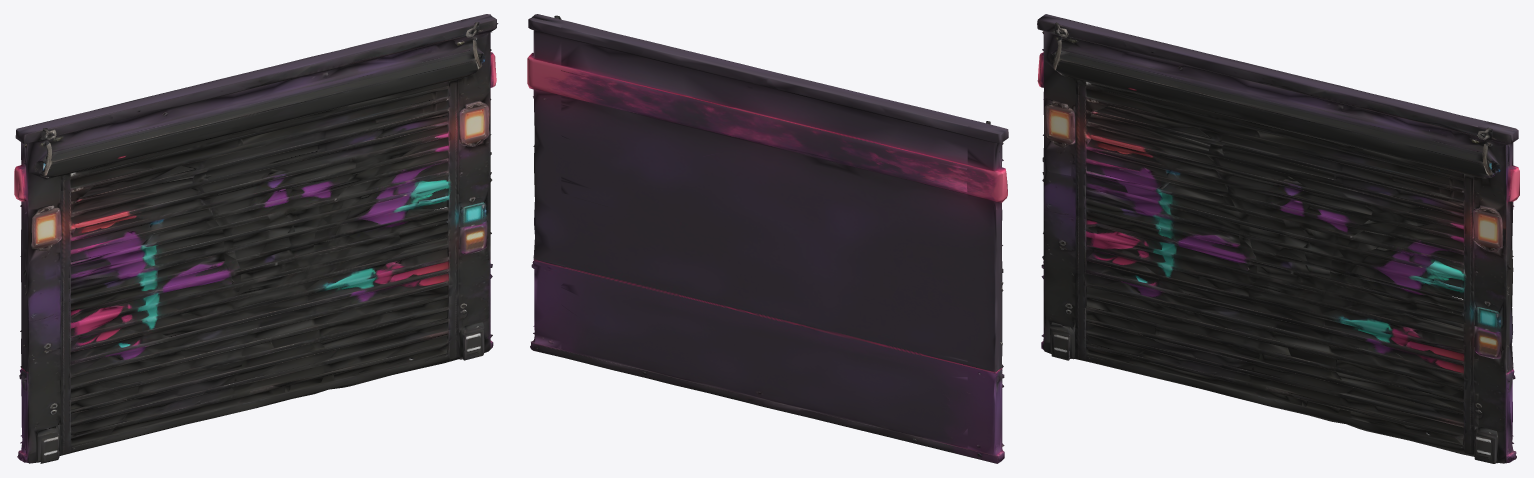
Rendered from 02_roller_shutter.glb.
3 renders of one model, left to right at view 1: azimuth 30°, elevation 25°; view 2: azimuth 150°, elevation 25°; view 3: azimuth 330°, elevation 25°, orthographic.
Parts seen in each view (by area): view 1: SHUTTER_HOUSING, SHUTTER_GUIDE_LEFT, SHUTTER_GUIDE_RIGHT, SHUTTER_SLAT_07, SHUTTER_SLAT_17, SHUTTER_SLAT_18, SHUTTER_SLAT_20, SHUTTER_SLAT_10, SHUTTER_SLAT_11, SHUTTER_SLAT_23, SHUTTER_SLAT_02, SHUTTER_SLAT_15 (+17 smaller); view 2: SHUTTER_HOUSING, SHUTTER_GUIDE_LEFT, SHUTTER_GUIDE_RIGHT, SHUTTER_SLAT_01, SHUTTER_SLAT_06, SHUTTER_SLAT_20, SHUTTER_SLAT_25, SHUTTER_SLAT_17, SHUTTER_SLAT_19, SHUTTER_SLAT_10, SHUTTER_SLAT_11, SHUTTER_SLAT_12 (+17 smaller); view 3: SHUTTER_HOUSING, SHUTTER_GUIDE_RIGHT, SHUTTER_GUIDE_LEFT, SHUTTER_SLAT_07, SHUTTER_SLAT_17, SHUTTER_SLAT_18, SHUTTER_SLAT_20, SHUTTER_SLAT_23, SHUTTER_SLAT_15, SHUTTER_SLAT_10, SHUTTER_SLAT_22, SHUTTER_SLAT_02 (+17 smaller).
Boxes of the visible parts, <box> form: SHUTTER_HOUSING: <box>49,21,466,171</box>; SHUTTER_GUIDE_LEFT: <box>14,121,59,463</box>; SHUTTER_GUIDE_RIGHT: <box>456,14,498,359</box>; SHUTTER_SLAT_07: <box>56,270,462,380</box>; SHUTTER_SLAT_17: <box>56,159,463,269</box>; SHUTTER_SLAT_18: <box>56,148,462,258</box>; SHUTTER_SLAT_20: <box>57,127,464,236</box>; SHUTTER_SLAT_10: <box>56,238,464,347</box>; SHUTTER_SLAT_11: <box>56,226,464,336</box>; SHUTTER_SLAT_23: <box>56,92,462,202</box>; SHUTTER_SLAT_02: <box>56,326,465,438</box>; SHUTTER_SLAT_15: <box>56,181,462,291</box>; SHUTTER_HOUSING: <box>561,21,974,170</box>; SHUTTER_GUIDE_LEFT: <box>967,121,1008,463</box>; SHUTTER_GUIDE_RIGHT: <box>527,14,568,356</box>; SHUTTER_SLAT_01: <box>561,337,967,447</box>; SHUTTER_SLAT_06: <box>561,282,967,391</box>; SHUTTER_SLAT_20: <box>561,126,967,236</box>; SHUTTER_SLAT_25: <box>560,71,966,181</box>; SHUTTER_SLAT_17: <box>561,159,967,269</box>; SHUTTER_SLAT_19: <box>561,137,967,247</box>; SHUTTER_SLAT_10: <box>561,237,967,347</box>; SHUTTER_SLAT_11: <box>561,226,967,336</box>; SHUTTER_SLAT_12: <box>561,215,967,325</box>; SHUTTER_HOUSING: <box>1067,22,1485,171</box>; SHUTTER_GUIDE_RIGHT: <box>1475,121,1519,463</box>; SHUTTER_GUIDE_LEFT: <box>1037,14,1077,360</box>; SHUTTER_SLAT_07: <box>1071,271,1478,381</box>; SHUTTER_SLAT_17: <box>1071,159,1478,269</box>; SHUTTER_SLAT_18: <box>1071,148,1478,258</box>; SHUTTER_SLAT_20: <box>1070,127,1477,237</box>; SHUTTER_SLAT_23: <box>1071,93,1478,203</box>; SHUTTER_SLAT_15: <box>1071,182,1478,292</box>; SHUTTER_SLAT_10: <box>1071,237,1477,348</box>; SHUTTER_SLAT_22: <box>1070,104,1478,215</box>; SHUTTER_SLAT_02: <box>1068,326,1478,438</box>.
Bounding box in the file's own units: 3.8 × 2.55 × 0.16.
Materials: 2 (1 with a texture image).
